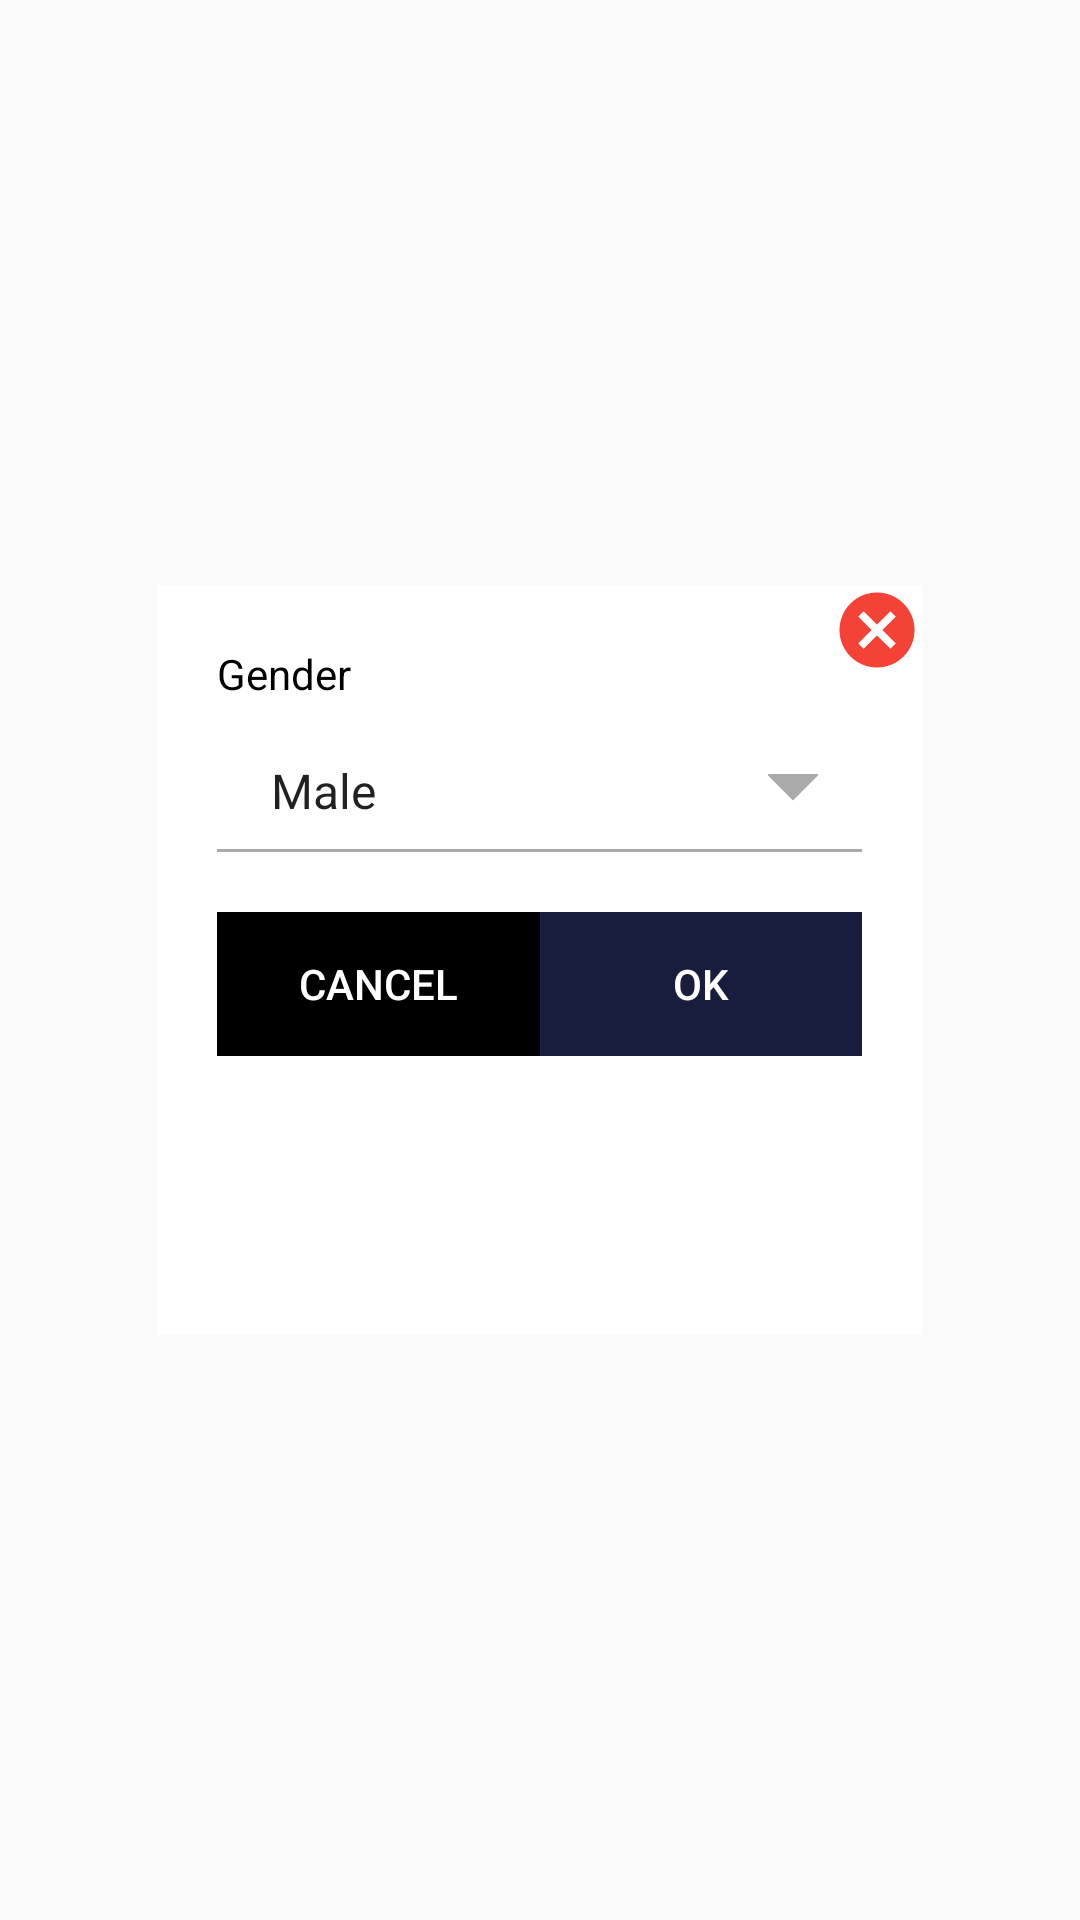

Icons on this 1080px×1920px Android screen, each with the point to tap as [x,y]:
cancel: [877,630]
